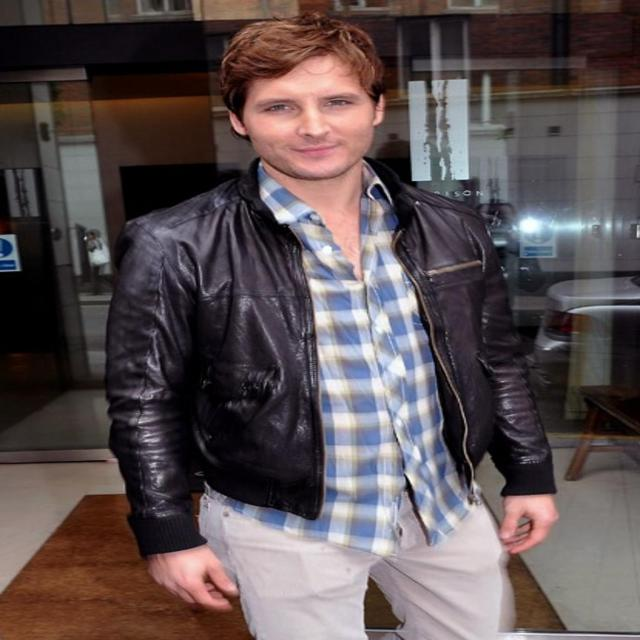nomask: (258, 62, 372, 172)
